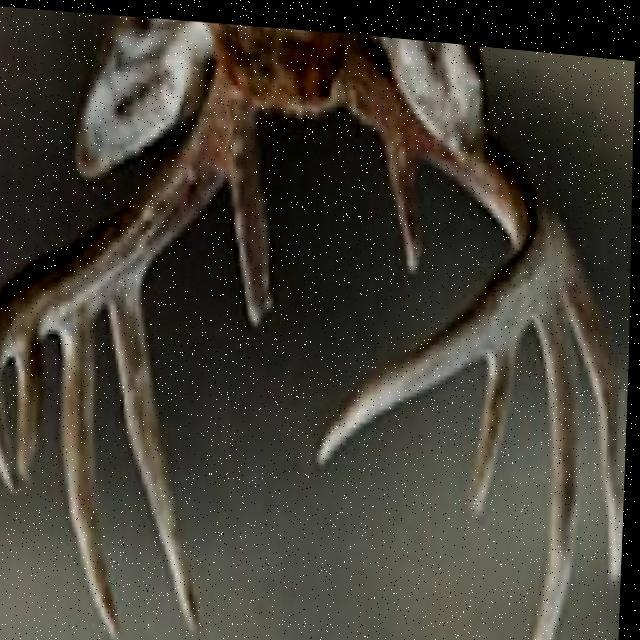L-F: (315, 26, 578, 464)
L-G1: (380, 129, 426, 268)
L-G2: (562, 237, 627, 576)
L-G3: (530, 279, 582, 640)
L-G4: (464, 327, 524, 507)
R-F: (0, 53, 258, 495)
R-G1: (230, 135, 278, 324)
R-G2: (106, 270, 207, 631)
R-G3: (59, 311, 127, 640)
R-G4: (15, 339, 47, 493)
